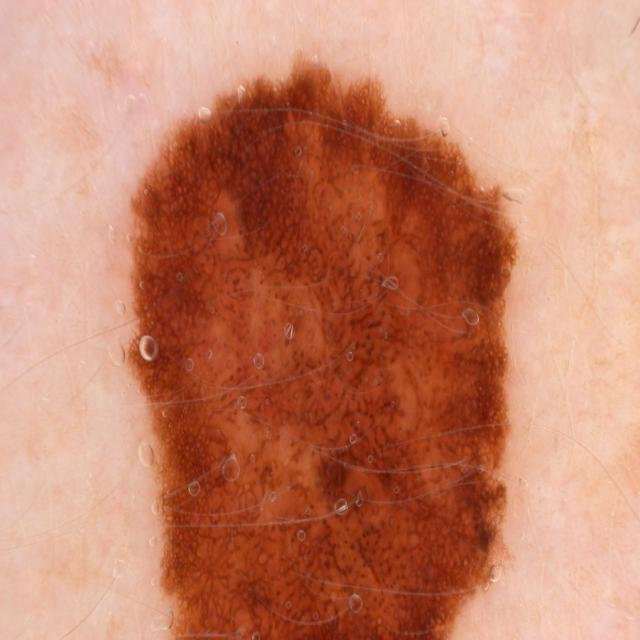Melanoma: (77, 65, 587, 640)
